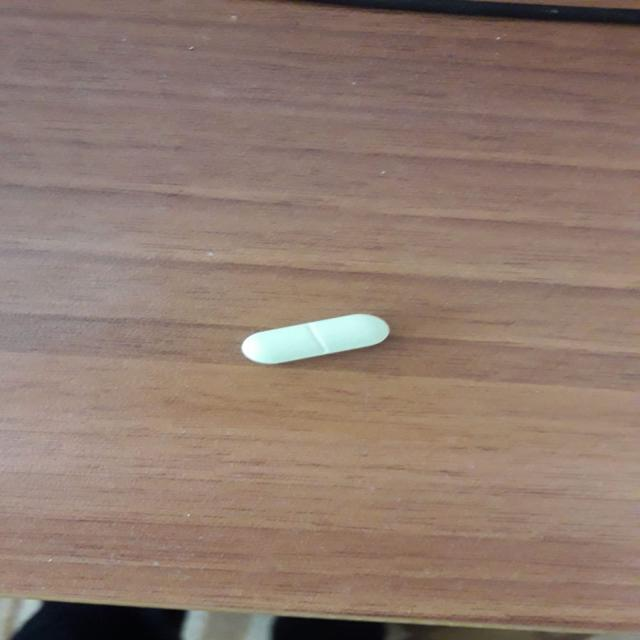pills: (223, 308, 414, 372)
